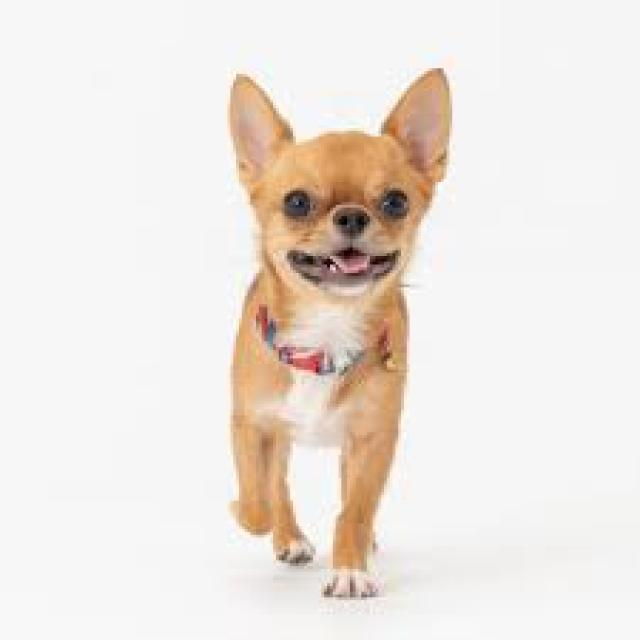dog: (233, 68, 454, 599)
